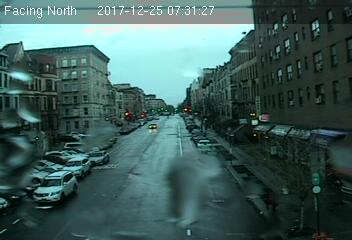car: (34, 170, 77, 202), (63, 156, 90, 177), (89, 150, 110, 164)
